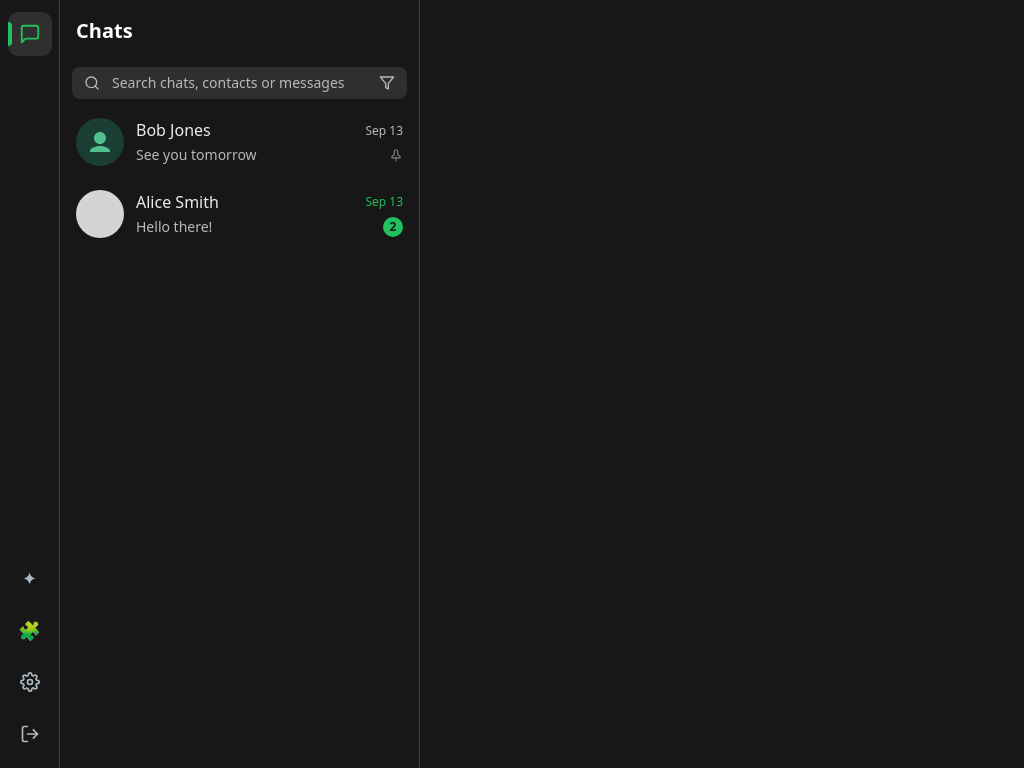
Test: ChatList › opens logout confirmation modal when logout button is clicked
Click the button titled "Logout" at (30, 734), box [8,712,52,756]
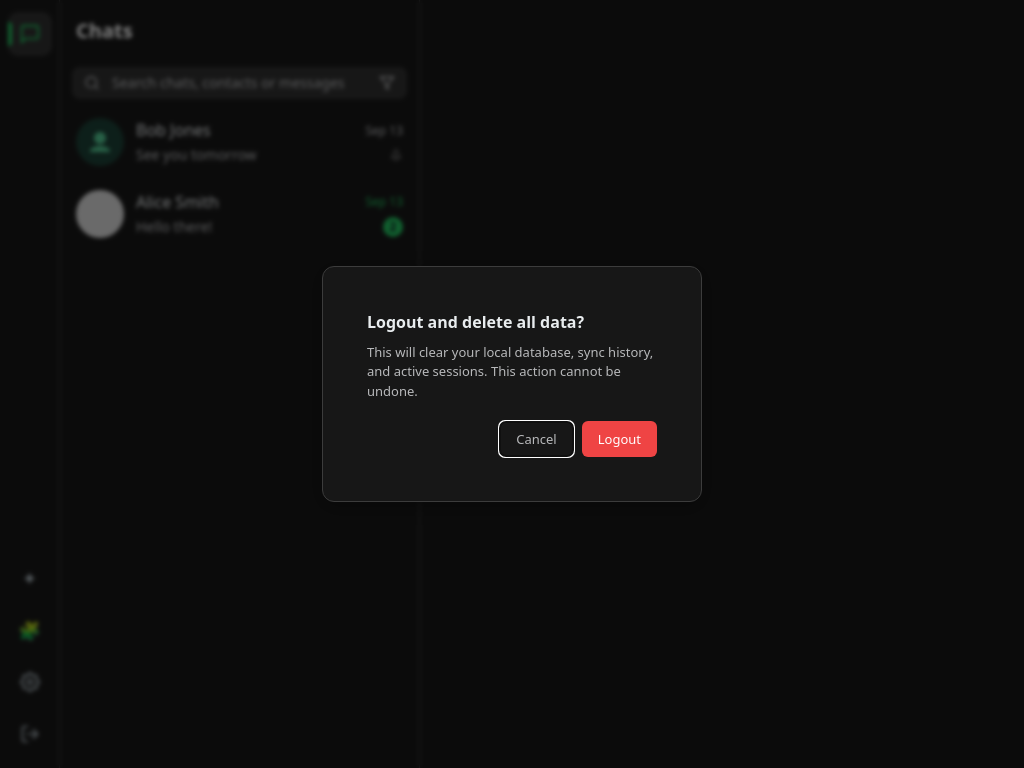
Expected: the heading "Logout and delete all data?" is shown, [367,311,584,333]
